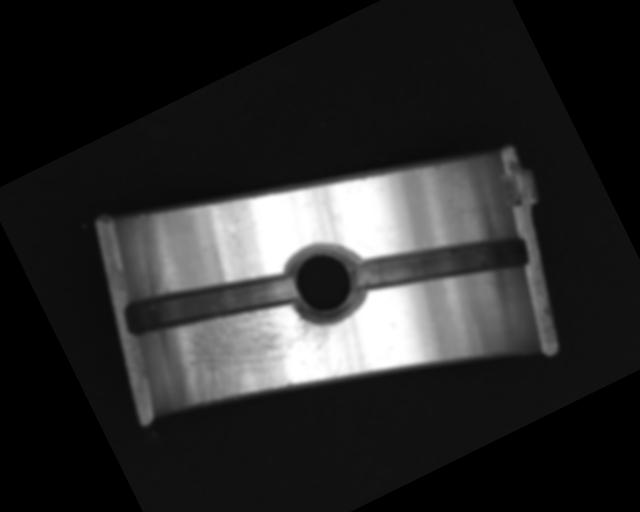gap: (349, 191, 534, 334), (117, 232, 304, 373)
hole: (271, 227, 379, 336)
scratch: (149, 262, 351, 446)
